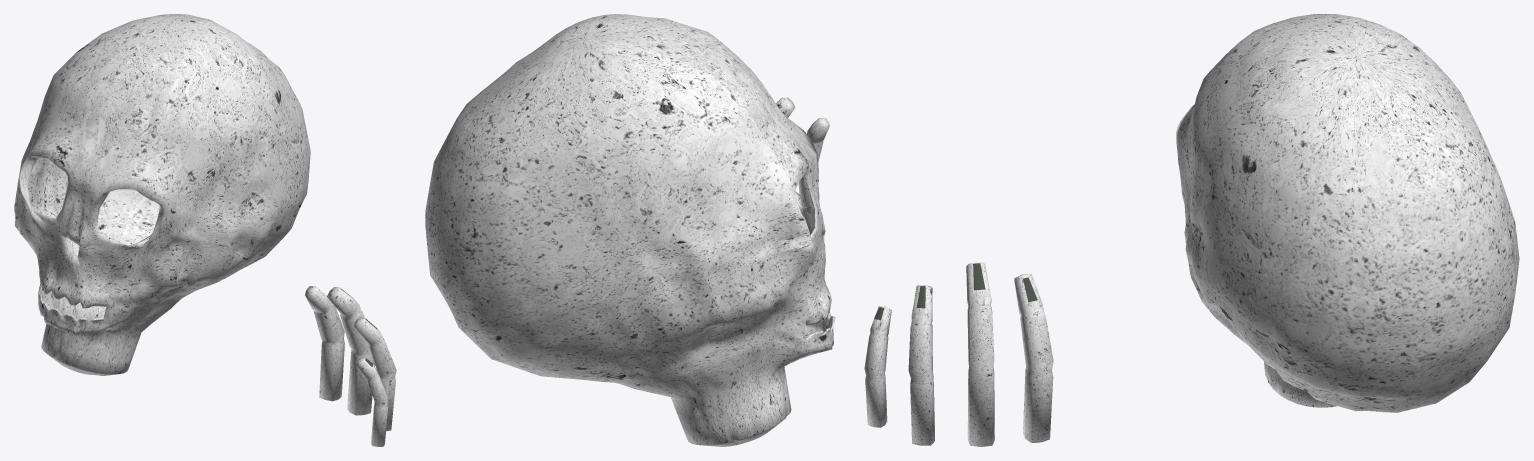
File: Big  Body.fbx
3 views of the same model, side by side, from view 1: azimuth 30°, elevation 25°; view 2: azimuth 150°, elevation 25°; view 3: azimuth 270°, elevation 25° (orthographic). The views are drawn at different scales.
Parts seen in each view (by area): view 1: Head, Hand; view 2: Head, Hand; view 3: Head, Hand.
Part boxes in pixels (left/top/right/bottom): Head: left=14, top=14, right=310, bottom=375; Hand: left=305, top=286, right=396, bottom=446; Head: left=425, top=14, right=835, bottom=446; Hand: left=776, top=97, right=829, bottom=207; Head: left=1176, top=14, right=1519, bottom=412; Hand: left=864, top=262, right=1053, bottom=446.
Bounding box in the file's own units: 1788 × 1907 × 2779.
2 materials, 1 textured.
